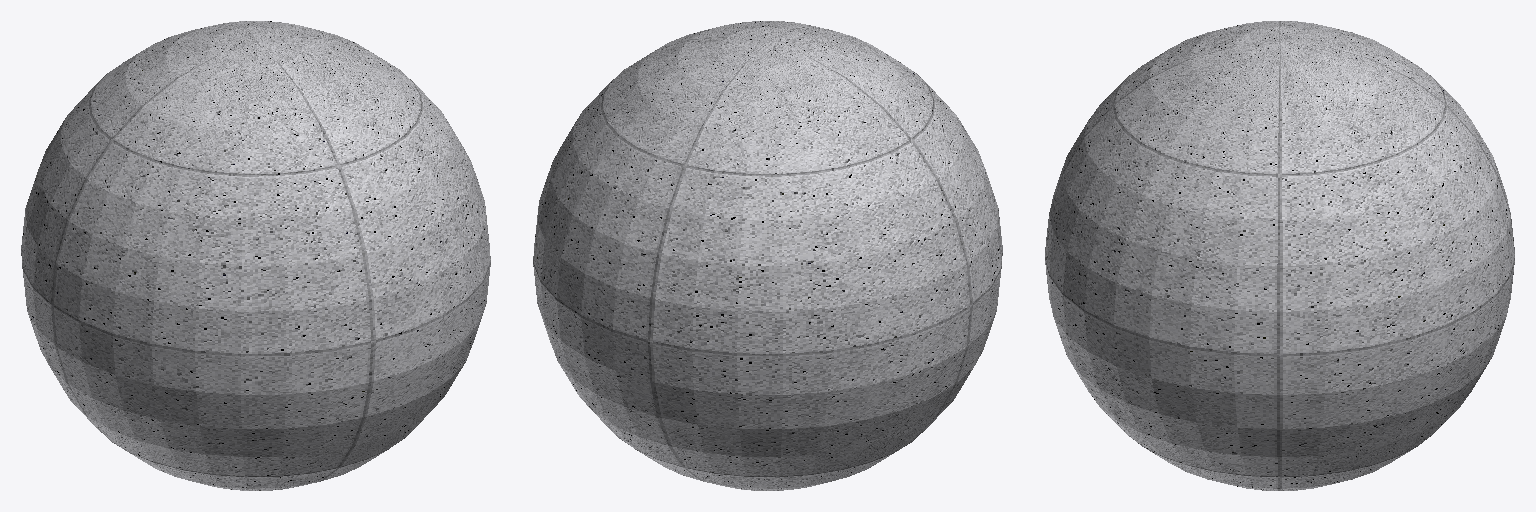
The picture shows the model from 3 angles: view 1: azimuth 30°, elevation 25°; view 2: azimuth 150°, elevation 25°; view 3: azimuth 270°, elevation 25°; orthographic projection.
Visible parts, largest first — view 1: Sphere001; view 2: Sphere001; view 3: Sphere001.
Part boxes in pixels (x1,y1,x2,y2): Sphere001: (21,21,490,490); Sphere001: (533,21,1002,490); Sphere001: (1045,21,1514,490).
Bounding box in the file's own units: 66.82 × 66.82 × 66.82.
1 materials, 1 textured.